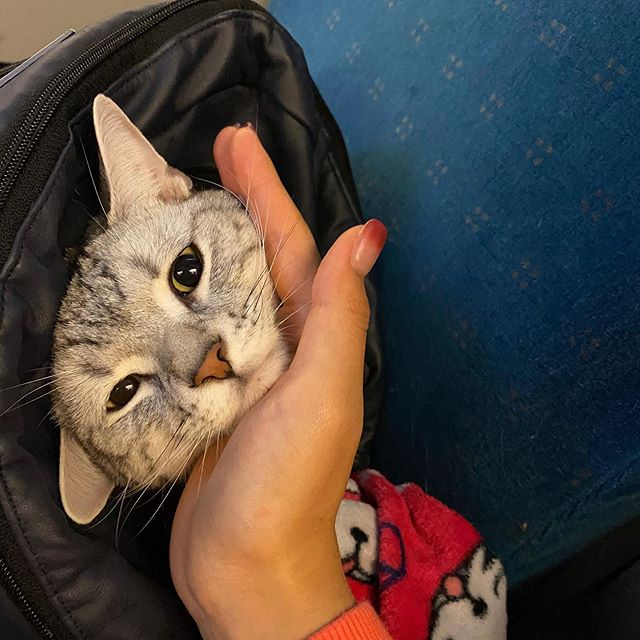cat: (17, 92, 293, 513)
